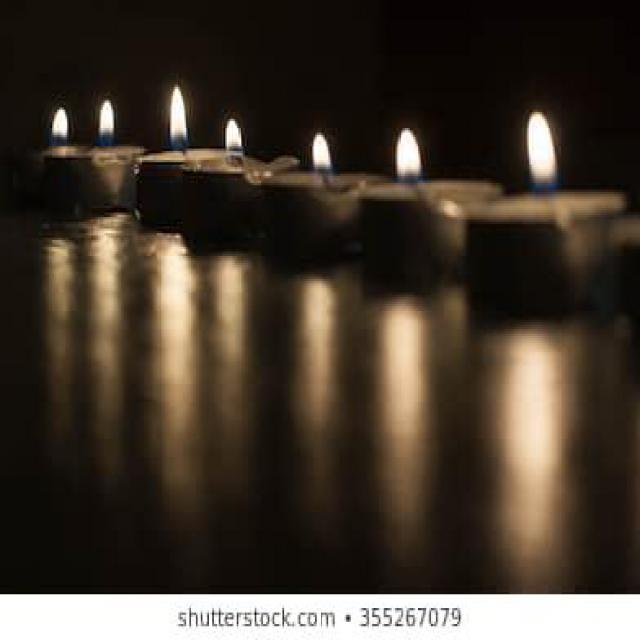Fire: (524, 111, 557, 195), (394, 130, 420, 183), (170, 86, 188, 150), (311, 131, 334, 175), (52, 108, 69, 146), (100, 100, 114, 146), (226, 118, 242, 156)
